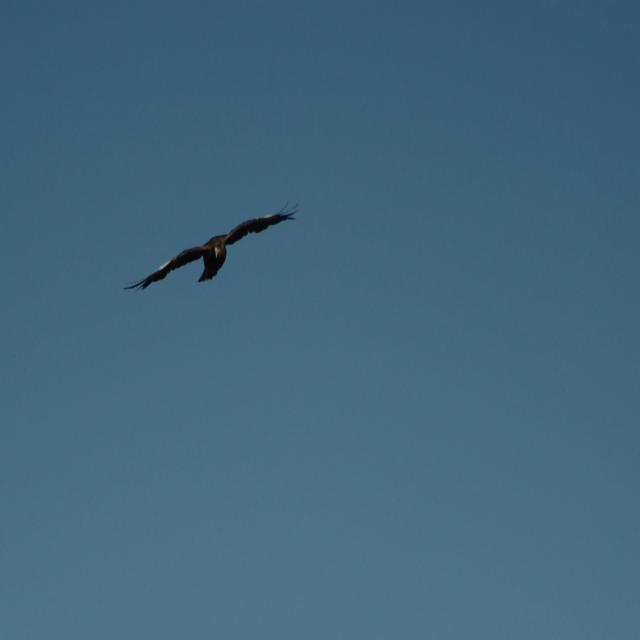bird: (107, 194, 308, 299)
